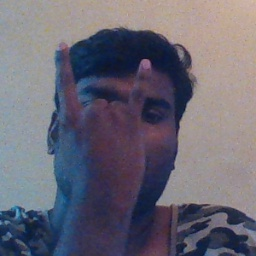V: (49, 40, 159, 200)
